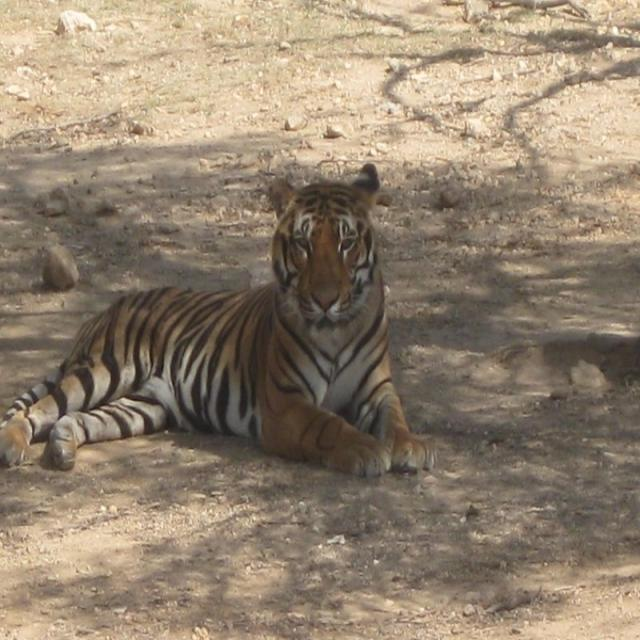Tiger: (0, 160, 435, 480)
